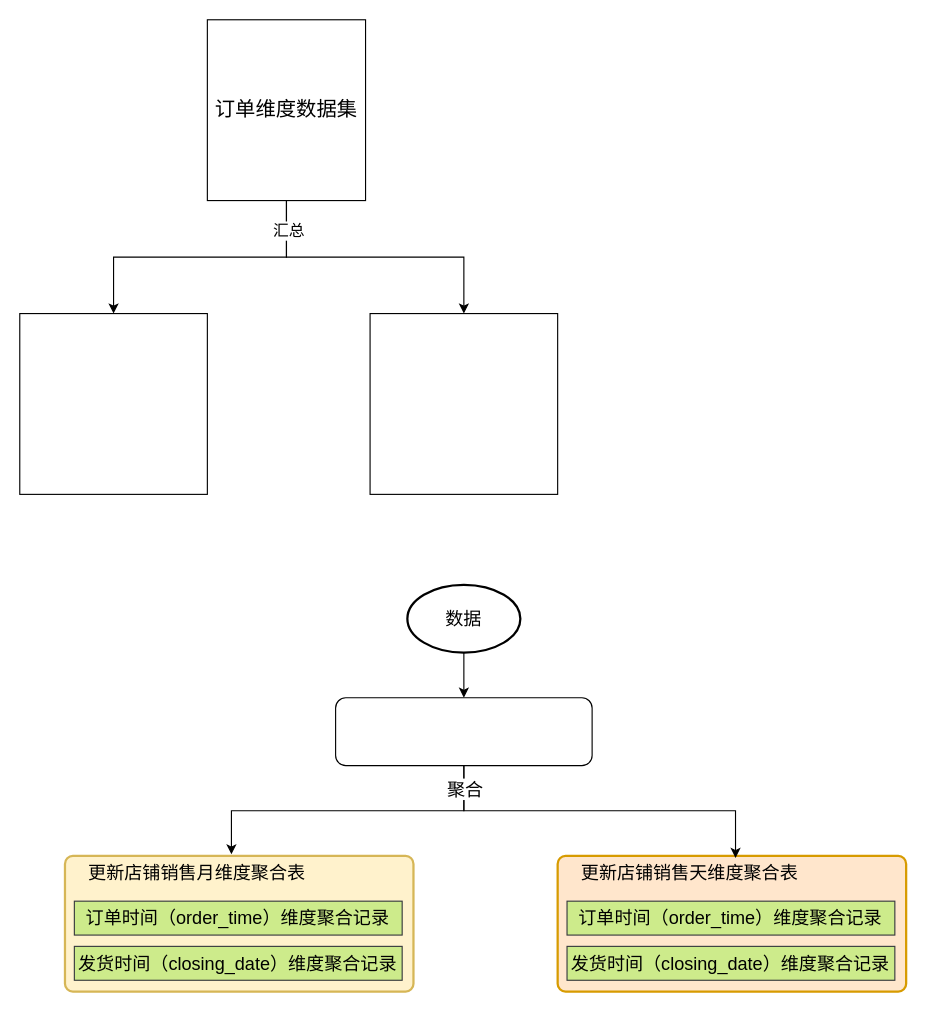
The diagram is 927 pixels wide and 1012 high, and some of its shapes have lost their labels. The shapes that lost their labels are listed below. From the top down, each one's centre as x and y in pixels, then its label:
At point 113,403: "店铺天维度数据集".
At point 463,403: "店铺月维度数据集".
At point 463,731: "写入\更新店铺销售订单维度表".
